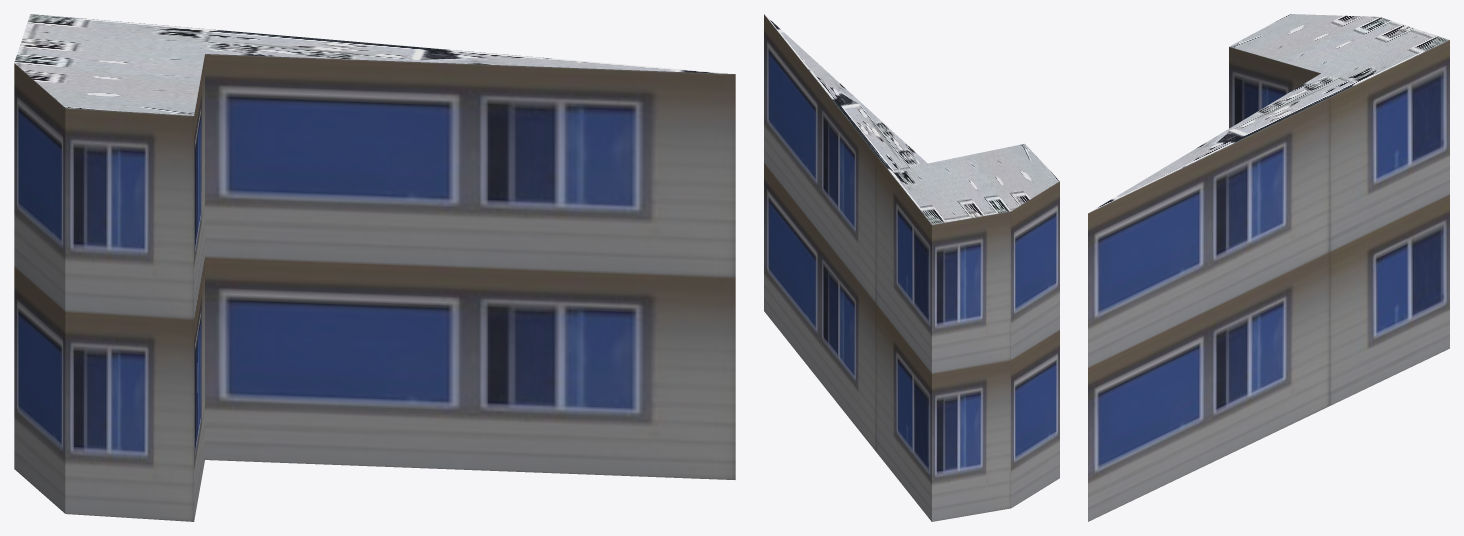
The model's file is ResTex__3183.fbx.
3 views of the same model, side by side, from view 1: azimuth 30°, elevation 25°; view 2: azimuth 150°, elevation 25°; view 3: azimuth 270°, elevation 25° (orthographic). The views are drawn at different scales.
Visible parts, largest first — view 1: CityEngineMaterial_23_m, CityEngineMaterial_4_m; view 2: CityEngineMaterial_23_m, CityEngineMaterial_4_m; view 3: CityEngineMaterial_23_m, CityEngineMaterial_4_m.
Part boxes in pixels (x1,y1,x2,y2): CityEngineMaterial_23_m: (14,54,735,521); CityEngineMaterial_4_m: (14,14,731,115); CityEngineMaterial_23_m: (764,14,1059,521); CityEngineMaterial_4_m: (764,14,1059,224); CityEngineMaterial_23_m: (1088,40,1449,521); CityEngineMaterial_4_m: (1089,14,1448,212).
Bounding box in the file's own units: 8.31 × 6 × 6.37.
Materials: 2 (2 with a texture image).
